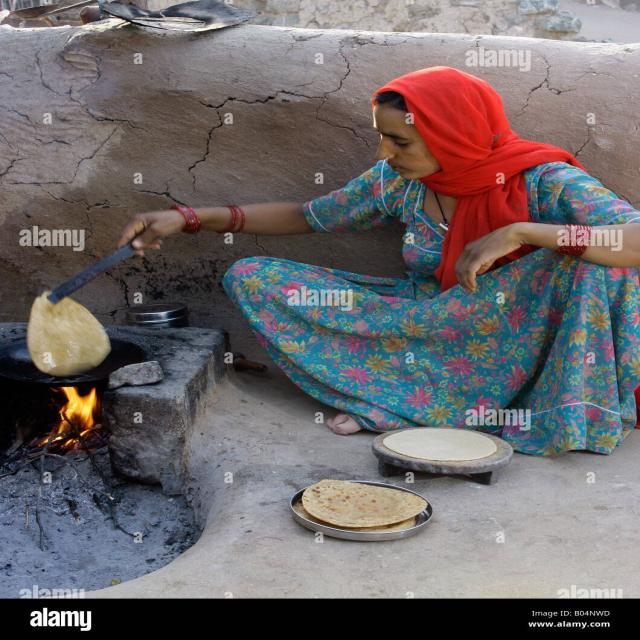fire: (43, 387, 97, 447)
